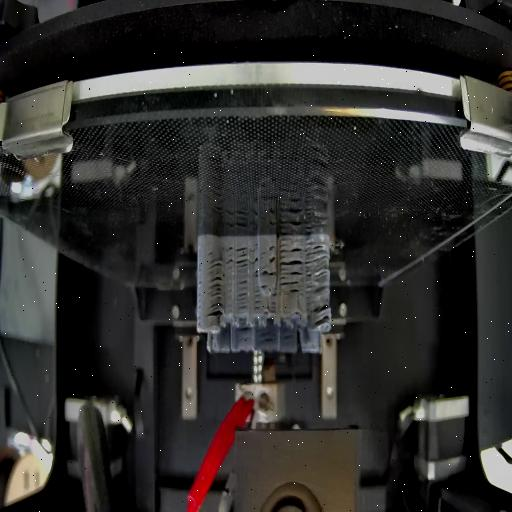cracks: (306, 244, 330, 293), (208, 256, 223, 318), (279, 244, 304, 278), (312, 304, 330, 326), (237, 278, 248, 312), (235, 245, 248, 267), (279, 280, 299, 294), (258, 330, 276, 344), (267, 243, 277, 263), (252, 294, 262, 312), (226, 246, 234, 268), (254, 238, 258, 280), (260, 268, 276, 278), (234, 326, 250, 334), (260, 284, 268, 292), (282, 334, 292, 340), (271, 291, 278, 297)
